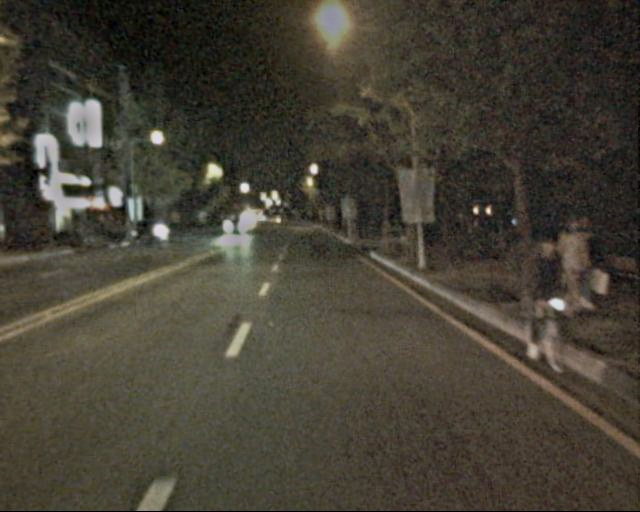person: (514, 240, 573, 368), (553, 218, 596, 314)
